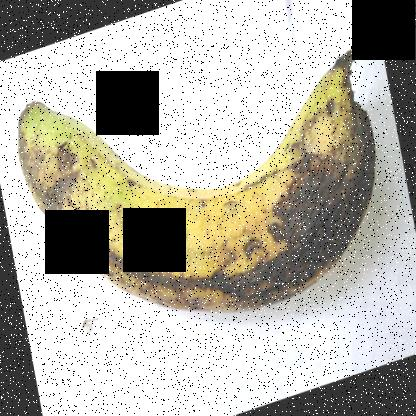rotten: (13, 61, 378, 338)
